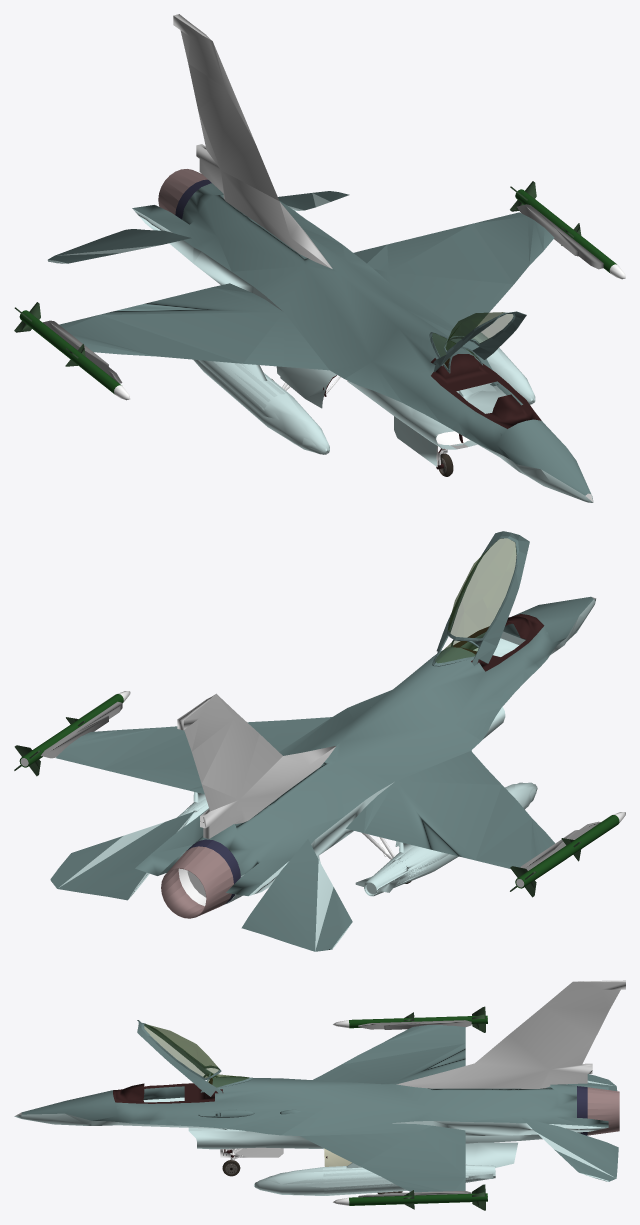
Rendered from Airplane F16FIN.obj.
The picture shows the model from 3 angles, top to bottom: view 1: azimuth 30°, elevation 25°; view 2: azimuth 150°, elevation 25°; view 3: azimuth 270°, elevation 25°; orthographic projection. The views are drawn at different scales.
Parts seen in each view (by area): view 1: (null); view 2: (null); view 3: (null).
Part boxes in pixels (left/top/right/bottom): (null): left=14, top=14, right=625, bottom=502; (null): left=14, top=531, right=625, bottom=951; (null): left=14, top=980, right=625, bottom=1210.
Size of the model in its own units: 40818 by 19895 by 56711.
